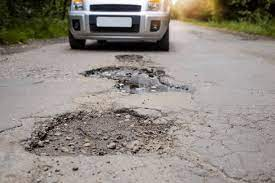potholes: (87, 55, 178, 103)
